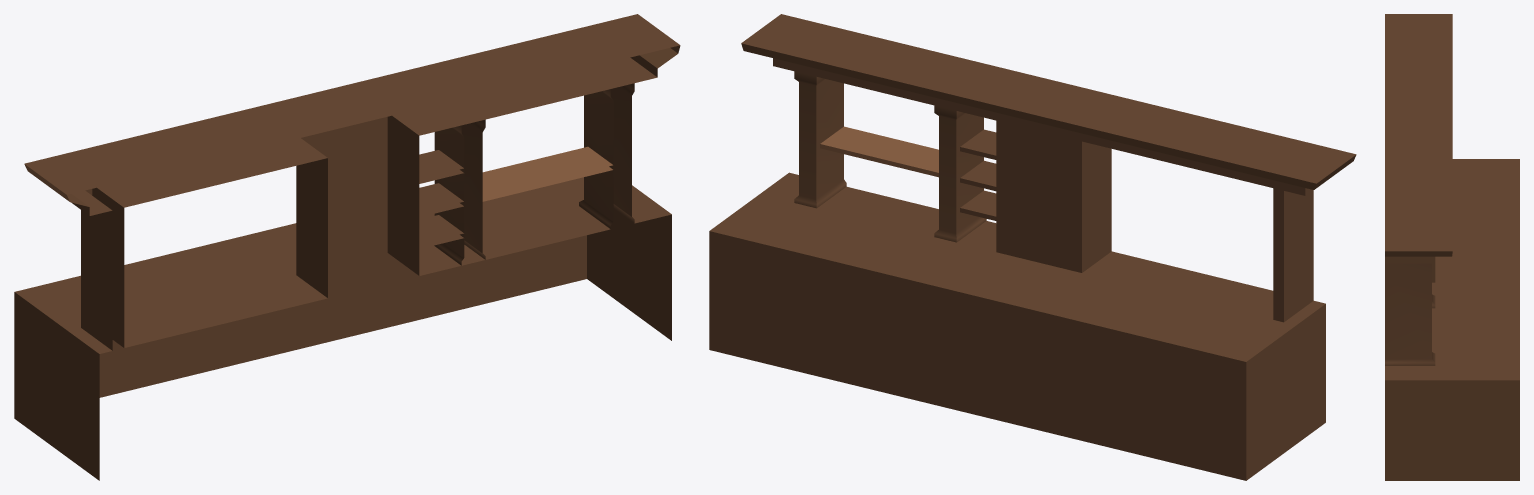
Rendered from bar_cabinet.fbx.
3 renders of one model, left to right at view 1: azimuth 30°, elevation 25°; view 2: azimuth 150°, elevation 25°; view 3: azimuth 270°, elevation 25°, orthographic. The views are drawn at different scales.
Parts seen in each view (by area): view 1: bar_cabinet; view 2: bar_cabinet; view 3: bar_cabinet.
Part boxes in pixels (left/top/right/bottom): bar_cabinet: left=14, top=14, right=680, bottom=480; bar_cabinet: left=709, top=14, right=1356, bottom=480; bar_cabinet: left=1385, top=14, right=1519, bottom=480.
Bounding box in the file's own units: 697 × 319 × 167.
